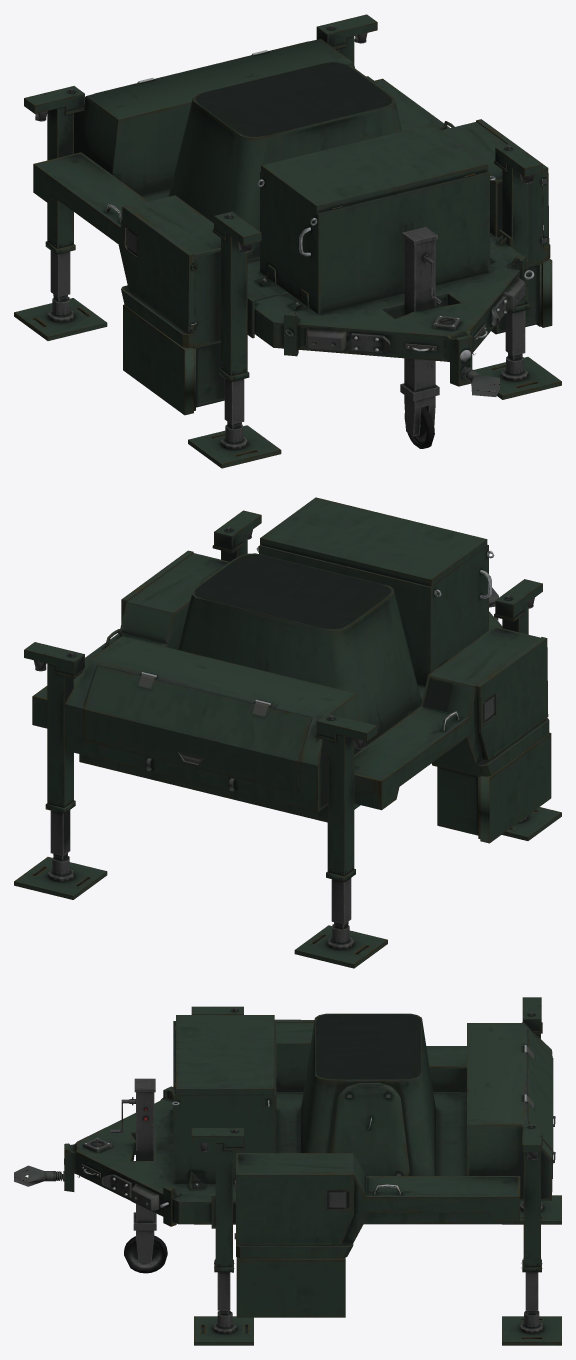
The model's file is flak_base.glb.
3 renders of one model, top to bottom at view 1: azimuth 30°, elevation 25°; view 2: azimuth 150°, elevation 25°; view 3: azimuth 270°, elevation 25°, orthographic. The views are drawn at different scales.
Visible parts, largest first — view 1: Box_Front_Body_Box_Front_0, Shasi_Side_Right_Frame_Shasi_Side_Right_0, Jack_Front_Right_Lower_Jack_0, Box_Middle_Door_Box_Middle_0, Shasi_Shasi_0, Box_Back_Body_Box_back_0, Shasi_Side_Left_Frame_Shasi_Side_Left_0, Jack_Middle_Rotatable_Jack_Front_0; view 2: Box_Back_Body_Box_back_0, Shasi_Side_Right_Frame_Shasi_Side_Right_0, Box_Middle_Door_Box_Middle_0, Jack_Front_Right_Lower_Jack_0, Box_Front_Body_Box_Front_0, Shasi_Side_Left_Frame_Shasi_Side_Left_0, Shasi_Shasi_0; view 3: Shasi_Side_Left_Frame_Shasi_Side_Left_0, Box_Middle_Door_Box_Middle_0, Shasi_Shasi_0, Box_Front_Body_Box_Front_0, Jack_Front_Right_Lower_Jack_0, Box_Back_Body_Box_back_0, Shasi_Side_Right_Frame_Shasi_Side_Right_0, Jack_Middle_Rotatable_Jack_Front_0.
Boxes of the visible parts, x1=… form: Box_Front_Body_Box_Front_0: x1=257, y1=123, x2=495, y2=314; Shasi_Side_Right_Frame_Shasi_Side_Right_0: x1=33, y1=152, x2=224, y2=415; Jack_Front_Right_Lower_Jack_0: x1=14, y1=14, x2=561, y2=468; Box_Middle_Door_Box_Middle_0: x1=168, y1=61, x2=401, y2=260; Shasi_Shasi_0: x1=141, y1=188, x2=534, y2=396; Box_Back_Body_Box_back_0: x1=74, y1=39, x2=354, y2=195; Shasi_Side_Left_Frame_Shasi_Side_Left_0: x1=374, y1=78, x2=552, y2=334; Jack_Middle_Rotatable_Jack_Front_0: x1=400, y1=227, x2=441, y2=448; Box_Back_Body_Box_back_0: x1=64, y1=636, x2=361, y2=811; Shasi_Side_Right_Frame_Shasi_Side_Right_0: x1=354, y1=626, x2=551, y2=843; Box_Middle_Door_Box_Middle_0: x1=178, y1=553, x2=421, y2=744; Jack_Front_Right_Lower_Jack_0: x1=14, y1=510, x2=561, y2=968; Box_Front_Body_Box_Front_0: x1=256, y1=497, x2=494, y2=686; Shasi_Side_Left_Frame_Shasi_Side_Left_0: x1=32, y1=550, x2=229, y2=728; Shasi_Shasi_0: x1=79, y1=587, x2=502, y2=822; Shasi_Side_Left_Frame_Shasi_Side_Left_0: x1=234, y1=1153, x2=520, y2=1317; Box_Middle_Door_Box_Middle_0: x1=301, y1=1013, x2=435, y2=1175; Shasi_Shasi_0: x1=14, y1=1086, x2=520, y2=1228; Box_Front_Body_Box_Front_0: x1=172, y1=1015, x2=276, y2=1183; Jack_Front_Right_Lower_Jack_0: x1=191, y1=997, x2=561, y2=1345; Box_Back_Body_Box_back_0: x1=467, y1=1023, x2=555, y2=1200; Shasi_Side_Right_Frame_Shasi_Side_Right_0: x1=274, y1=1019, x2=466, y2=1091; Jack_Middle_Rotatable_Jack_Front_0: x1=110, y1=1078, x2=167, y2=1273.
Bounding box in the file's own units: 2.53 × 1.68 × 3.69.
Materials: 8 (8 with a texture image).
